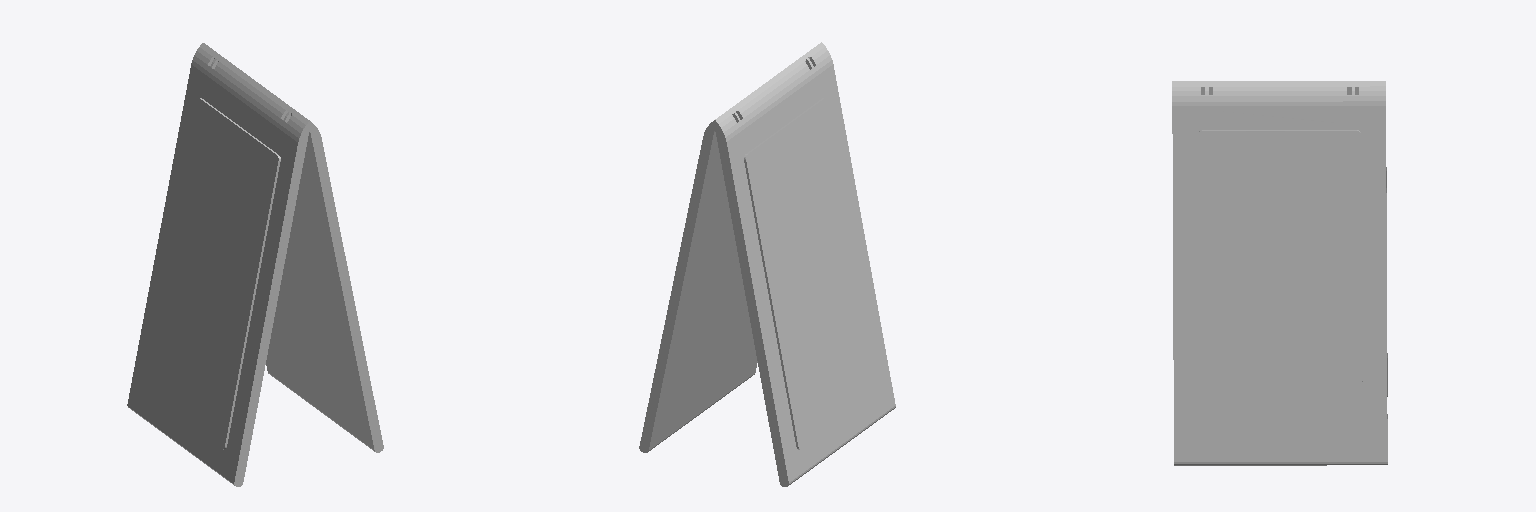
The model's file is WarningSign.obj.
3 renders of one model, left to right at view 1: azimuth 30°, elevation 25°; view 2: azimuth 150°, elevation 25°; view 3: azimuth 270°, elevation 25°, orthographic.
Parts seen in each view (by area): view 1: Cube.020; view 2: Cube.020; view 3: Cube.020.
Boxes of the visible parts, <box> form: Cube.020: <box>127,43,383,486</box>; Cube.020: <box>639,42,895,486</box>; Cube.020: <box>1172,81,1387,465</box>.
Bounding box in the file's own units: 0.9064 × 2.03 × 1.13.